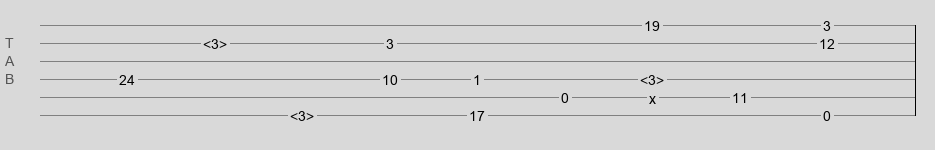0: (561, 90, 569, 100), (823, 108, 831, 118)
1: (473, 72, 481, 82)
10: (382, 72, 398, 82)
11: (732, 90, 748, 100)
12: (819, 36, 835, 46)
17: (469, 108, 485, 118)
19: (644, 18, 660, 28)
24: (119, 72, 135, 82)
3: (386, 36, 394, 46), (823, 18, 831, 28)
harmonic: (203, 36, 227, 46), (290, 108, 314, 118), (640, 72, 664, 82)
x: (649, 91, 656, 99)
